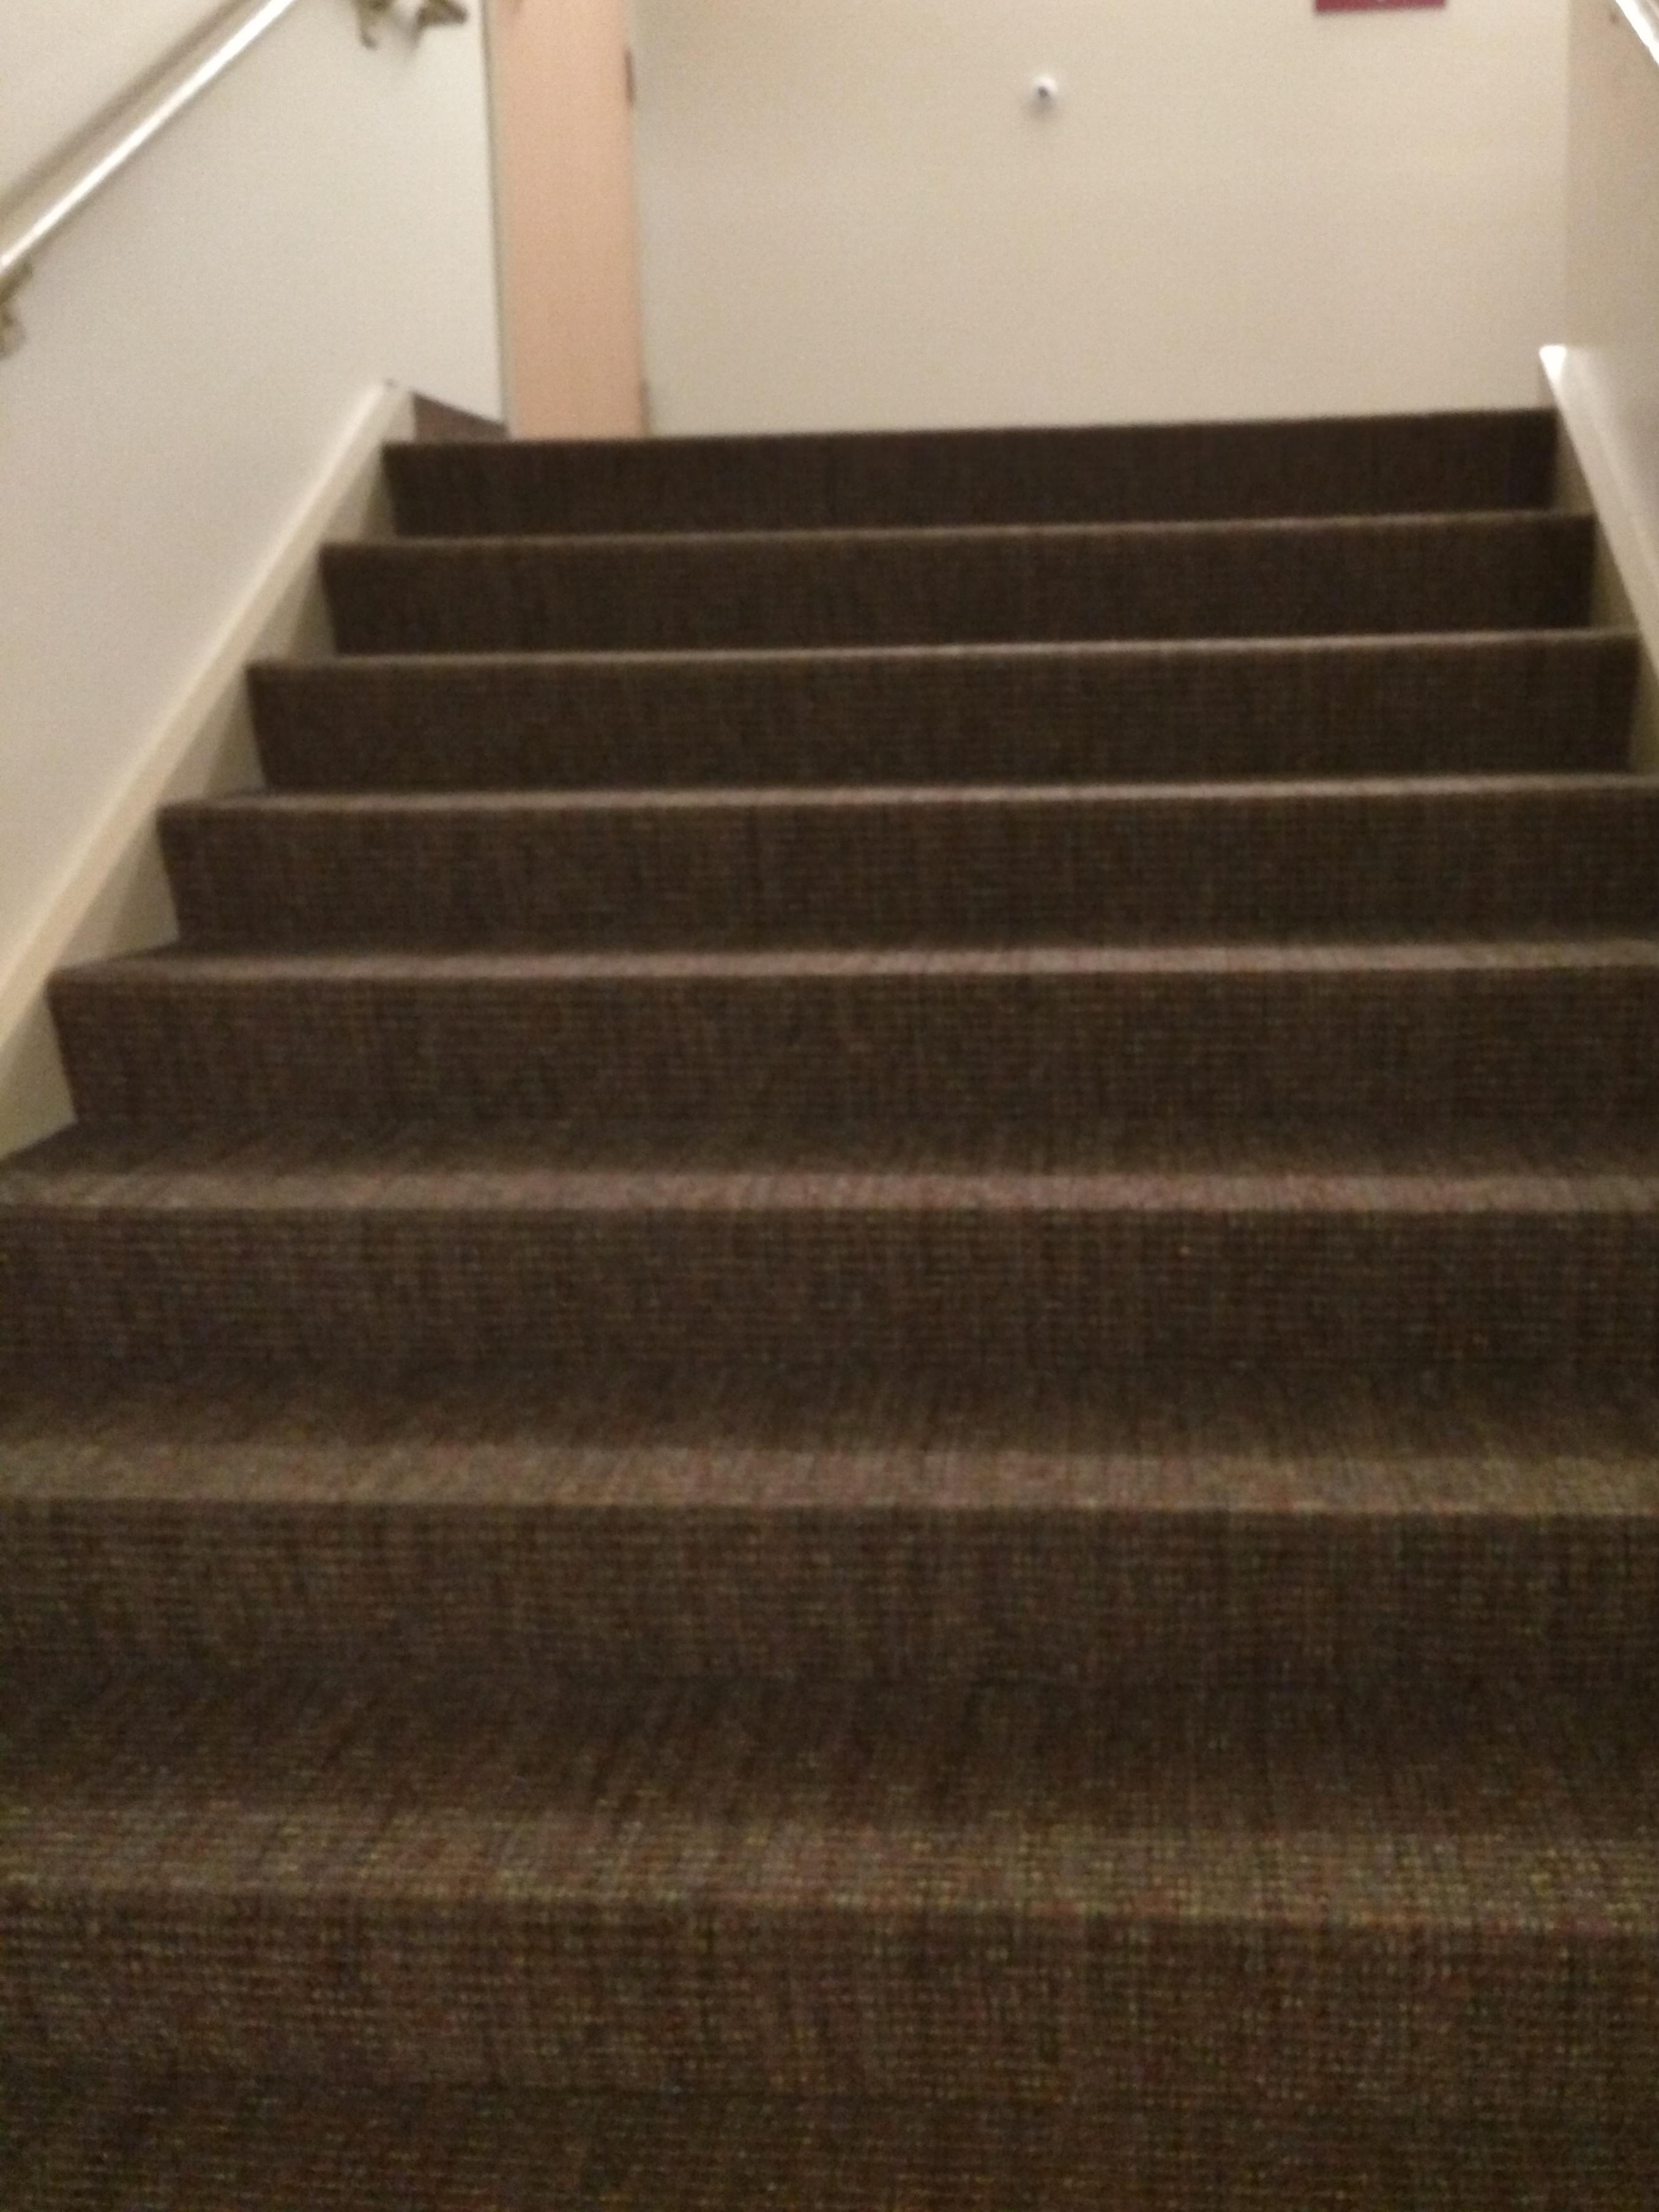stairs_up: (2, 403, 1657, 2106)
